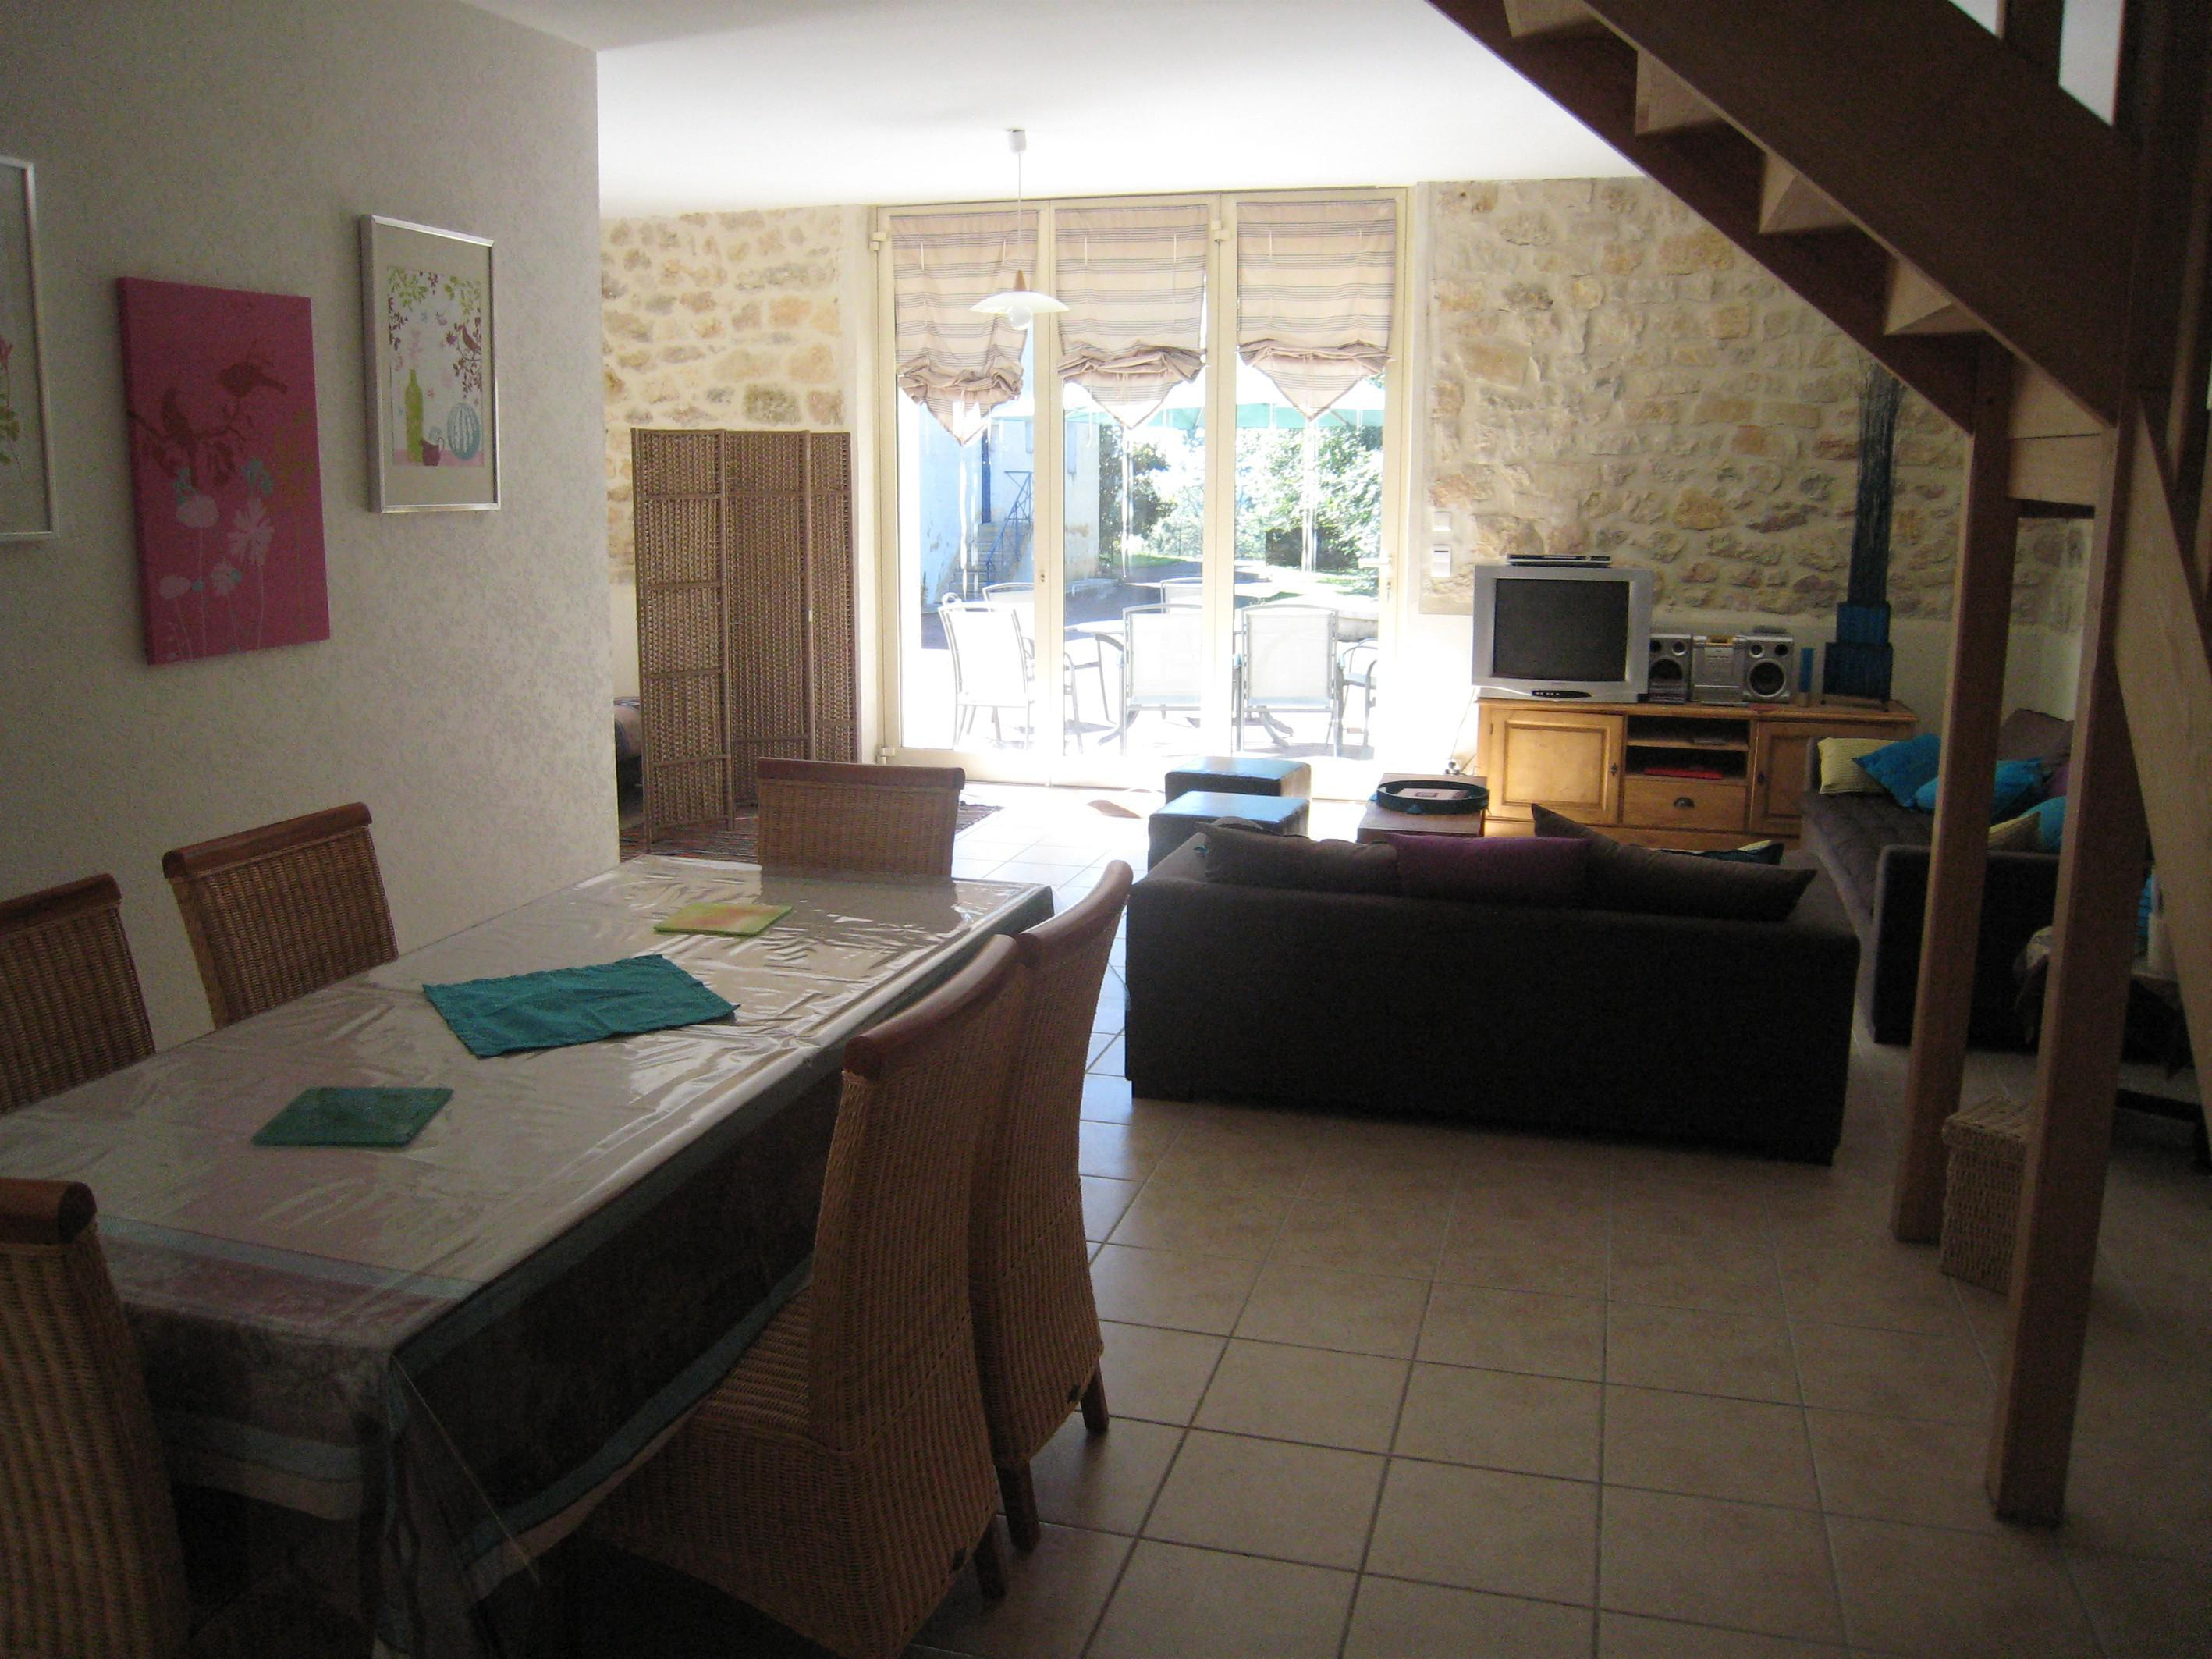Escaleras: (1440, 5, 2179, 453)
